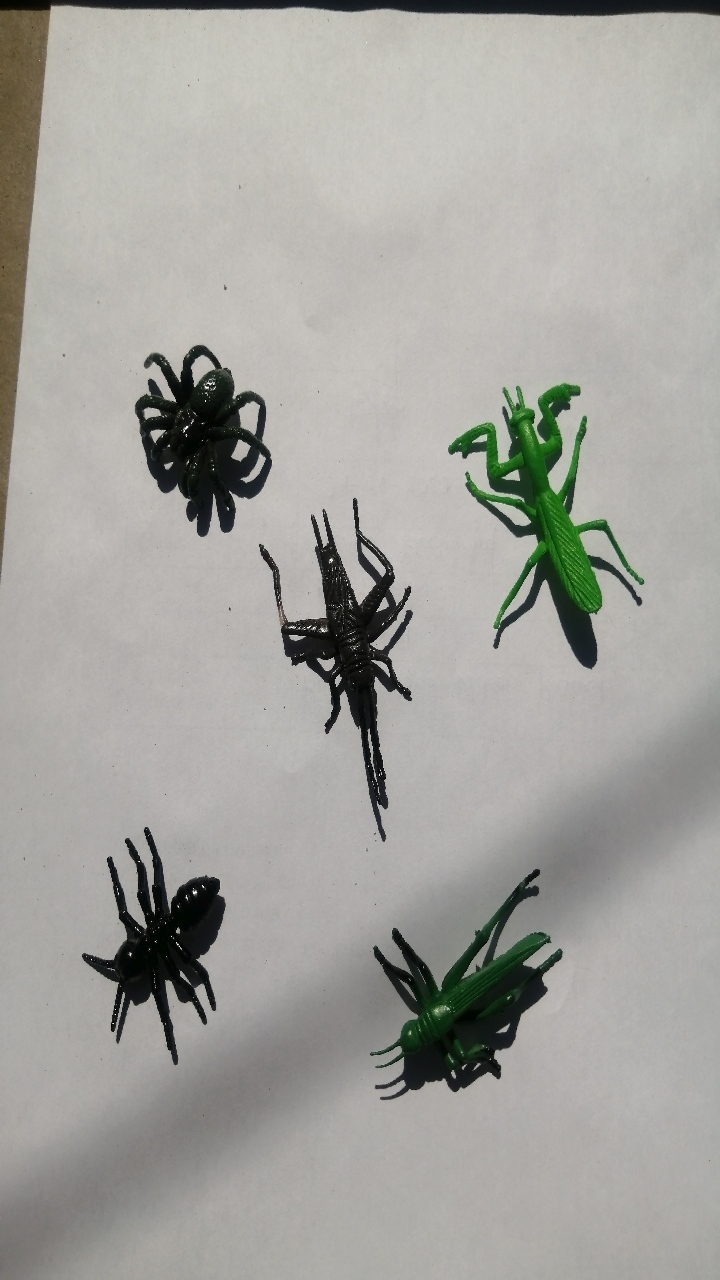intruso: (428, 354, 681, 705), (229, 489, 438, 843), (338, 843, 588, 1119), (57, 786, 241, 1066), (115, 309, 278, 519)
